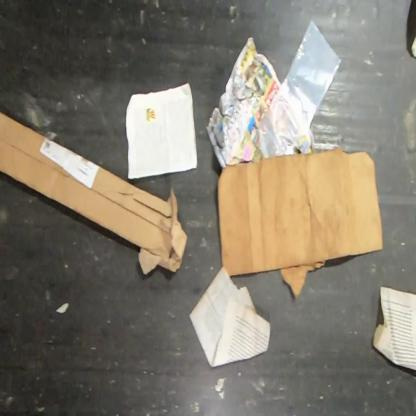cardboard: (0, 111, 189, 276), (216, 146, 384, 300)
soft_plastic: (252, 16, 342, 158)
